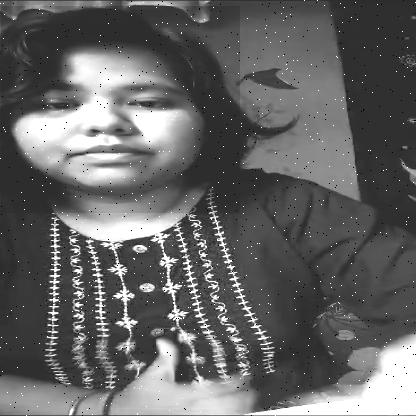Normal: (1, 6, 240, 213)
